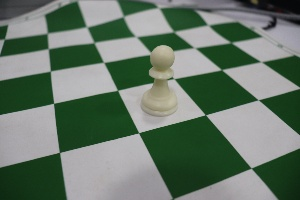white_pawn: (132, 36, 189, 124)
